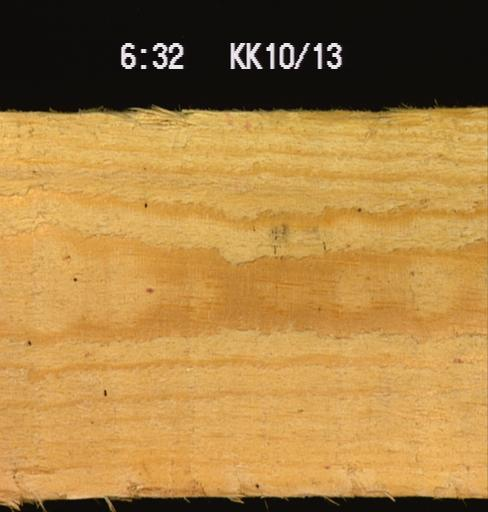wave: (98, 103, 458, 119), (0, 489, 487, 500)
